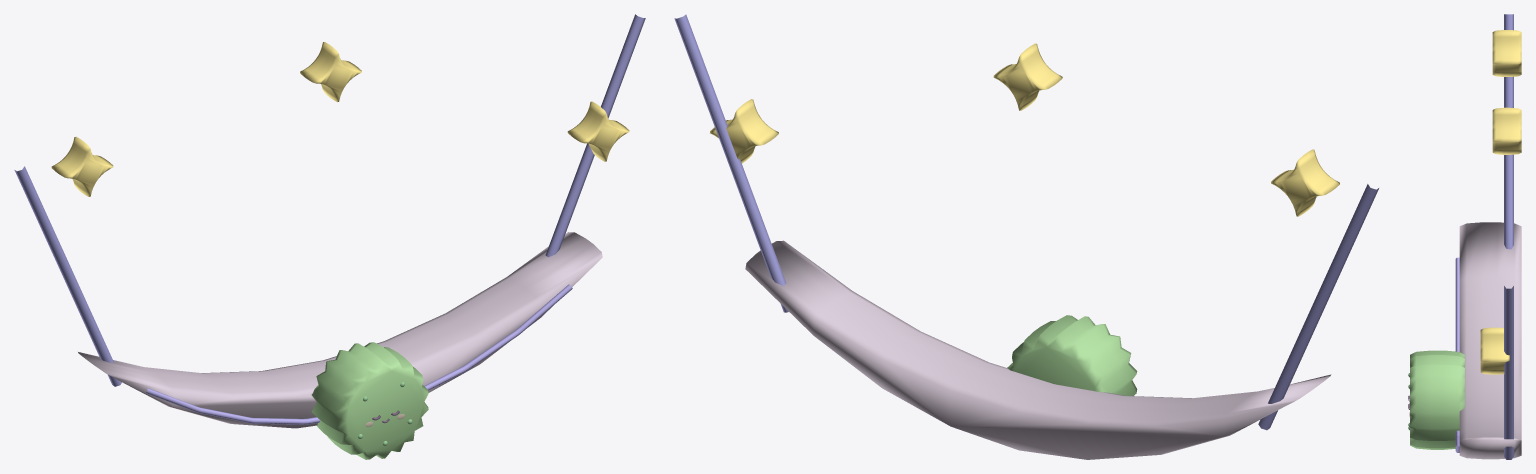
Rendered from decor_1_star.glb.
The picture shows the model from 3 angles, left to right: view 1: azimuth 30°, elevation 25°; view 2: azimuth 150°, elevation 25°; view 3: azimuth 270°, elevation 25°; orthographic projection. The views are drawn at different scales.
Visible parts, largest first — view 1: decor_1_star; view 2: decor_1_star; view 3: decor_1_star.
Part boxes in pixels (box(x1,y1,x2,y2)): decor_1_star: box(14, 14, 645, 459); decor_1_star: box(674, 14, 1378, 459); decor_1_star: box(1408, 14, 1521, 459).
Size of the model in its own units: 19.24 by 11.03 by 3.36.
